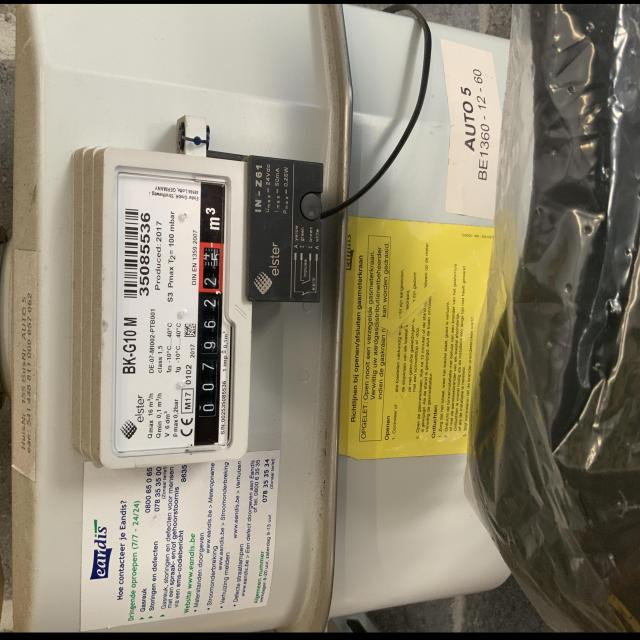gaz_meter: (114, 166, 234, 452)
indication: (197, 245, 224, 424)
